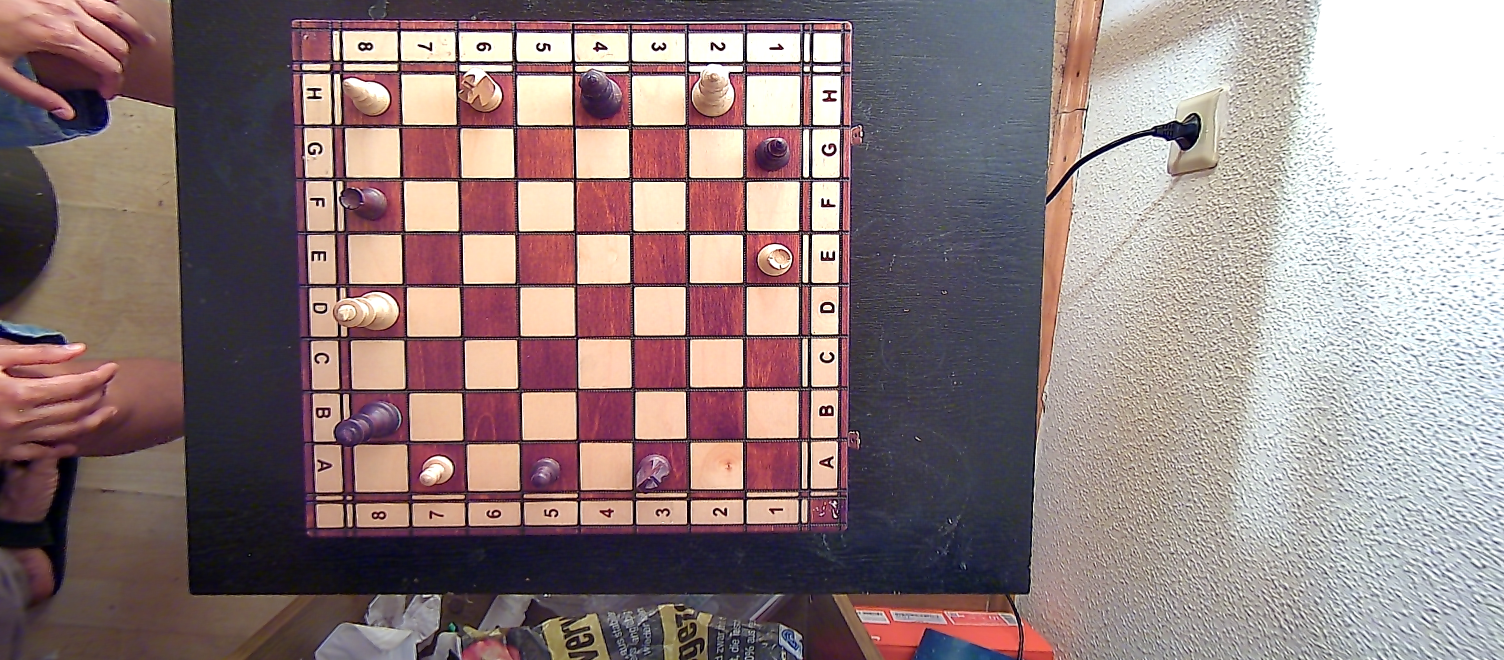black-bishop: (753, 131, 793, 173)
black-king: (332, 398, 403, 447)
black-knight: (631, 451, 673, 495)
black-pawn: (527, 453, 563, 492)
black-queen: (577, 67, 625, 121)
black-rook: (337, 183, 389, 221)
white-bishop: (339, 74, 392, 116)
white-king: (332, 290, 401, 333)
white-knight: (455, 65, 503, 116)
white-pawn: (415, 454, 456, 487)
white-queen: (691, 65, 737, 119)
white-rook: (755, 241, 792, 281)
